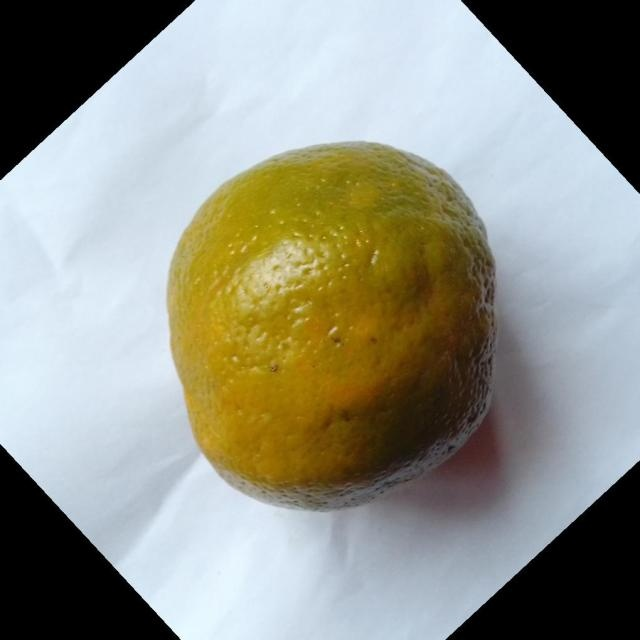agrume: (165, 139, 498, 512)
